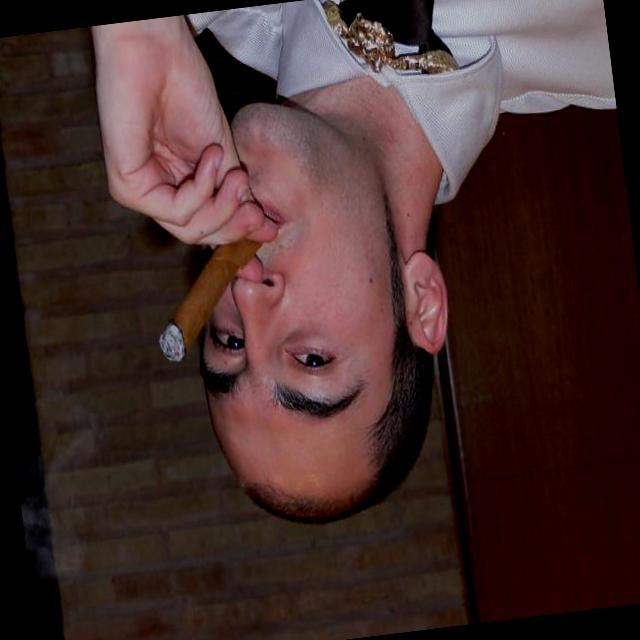smoke: (126, 192, 295, 394)
